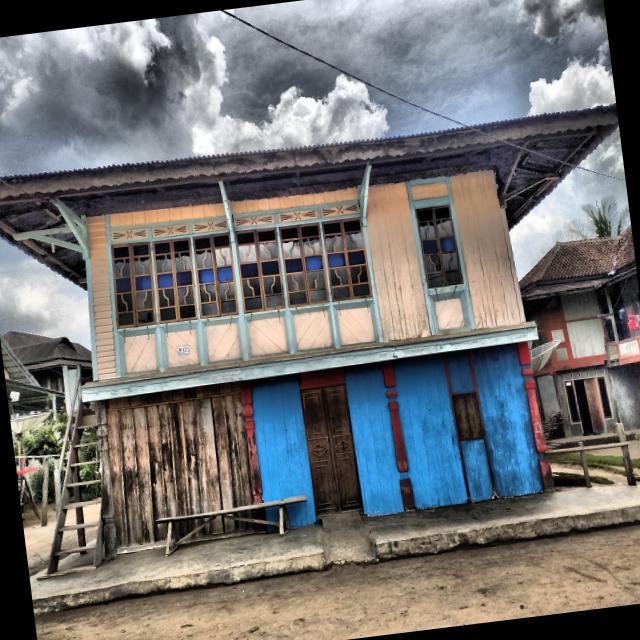column: (517, 341, 554, 488), (382, 362, 414, 510), (90, 399, 117, 557), (240, 379, 264, 504)
door: (299, 383, 363, 515), (573, 376, 606, 436)
roof: (0, 103, 617, 293), (517, 223, 636, 300)
stair: (46, 361, 104, 574), (1, 329, 92, 372)
wall: (86, 201, 243, 380), (366, 169, 526, 342), (250, 362, 405, 530), (230, 186, 379, 360), (104, 382, 253, 555), (392, 342, 543, 510)
window: (234, 226, 285, 313), (321, 216, 372, 301), (278, 221, 329, 306), (415, 204, 463, 288), (111, 241, 156, 329), (193, 232, 239, 318), (152, 237, 198, 323), (451, 391, 484, 440), (563, 380, 579, 422), (597, 376, 611, 416)
